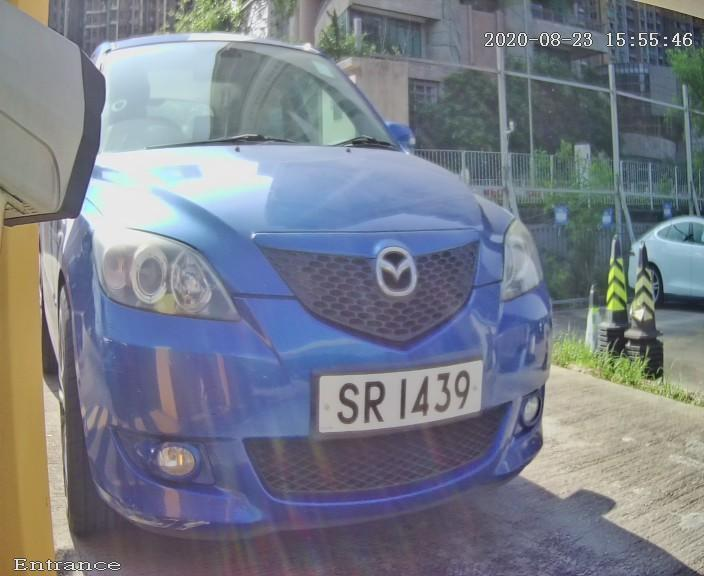Car: (19, 3, 604, 576)
License Plate: (283, 339, 521, 461)
